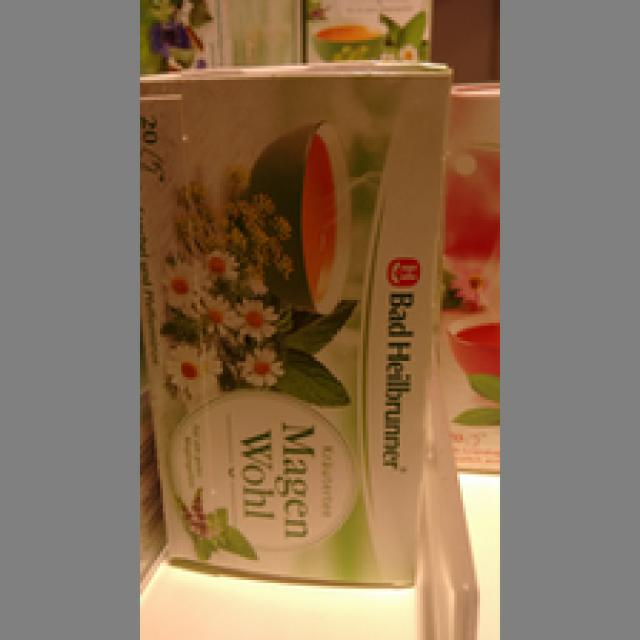groceries: (137, 60, 452, 583)
